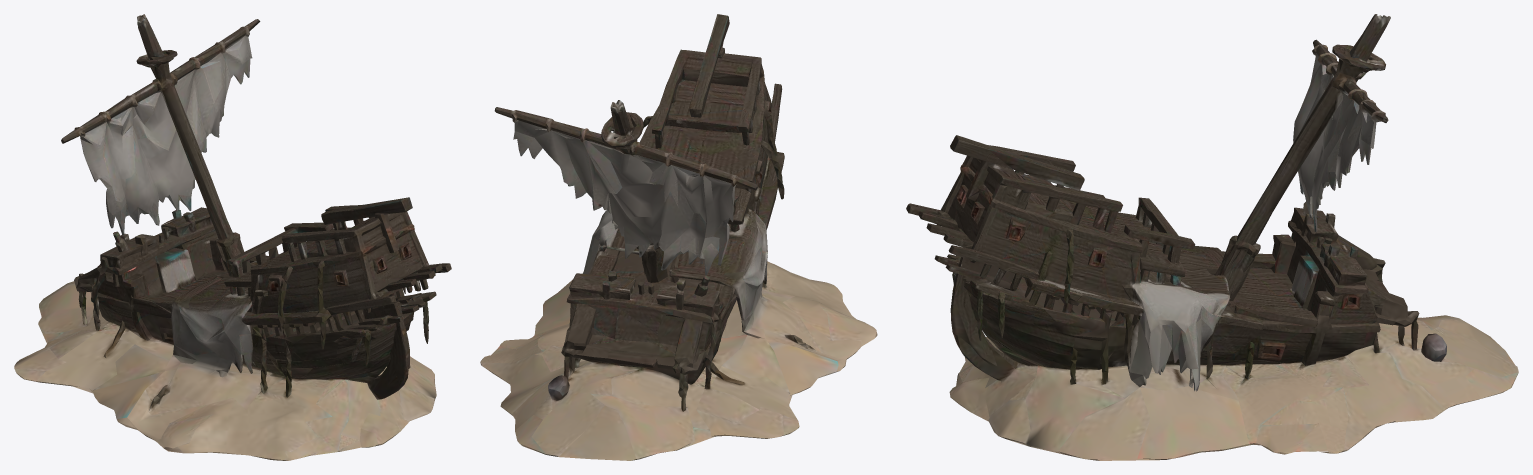
Rendered from shipwreck.glb.
3 renders of one model, left to right at view 1: azimuth 30°, elevation 25°; view 2: azimuth 150°, elevation 25°; view 3: azimuth 270°, elevation 25°, orthographic. The views are drawn at different scales.
Parts seen in each view (by area): view 1: shipwreck; view 2: shipwreck; view 3: shipwreck.
Boxes of the visible parts, x1,y1,x2,y2 form: shipwreck: (14,14,451,460); shipwreck: (480,14,877,460); shipwreck: (906,14,1518,460).
Bounding box in the file's own units: 3.88 × 3.6 × 5.65.
1 material, 1 textured.
